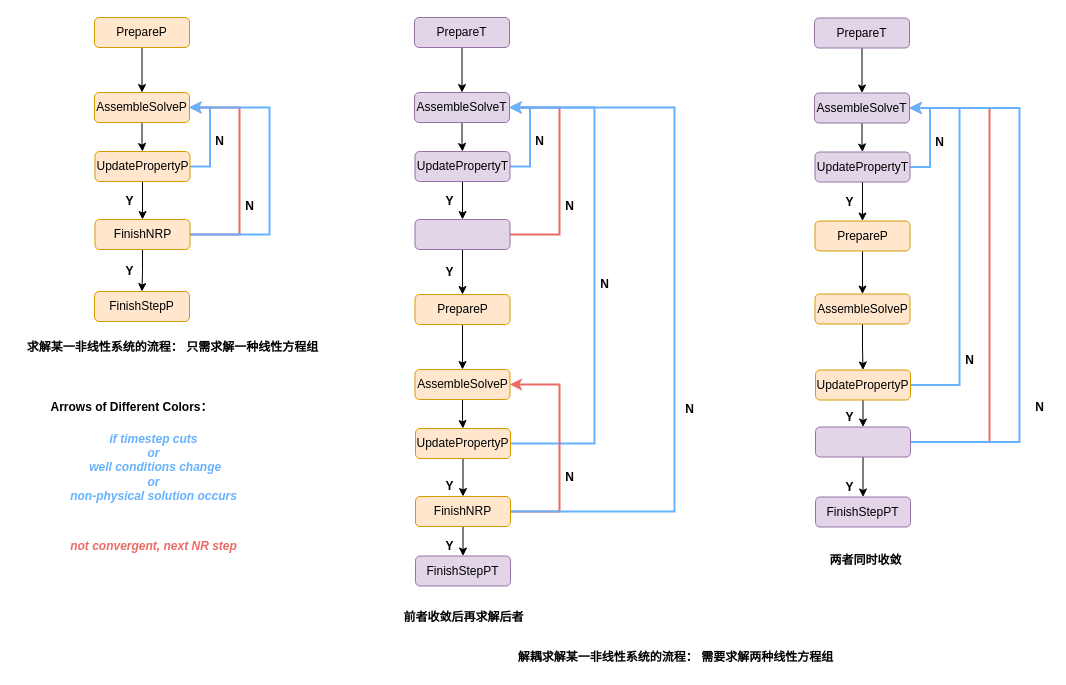
Some shapes in this 1066 by 685 pixel diagram are drawn without their labels. Each missing label, with the box of its shape:
FinishNRPT: (814, 426, 910, 457)
FinishNRT: (414, 218, 510, 250)
